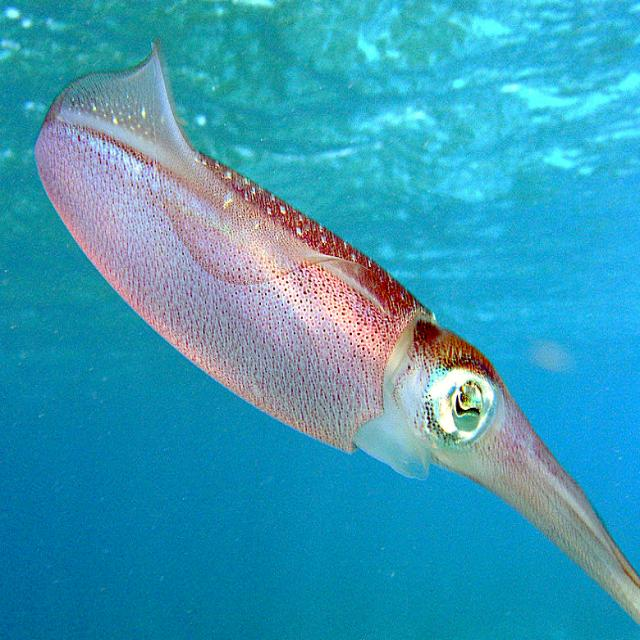SQUID: (22, 34, 640, 592)
